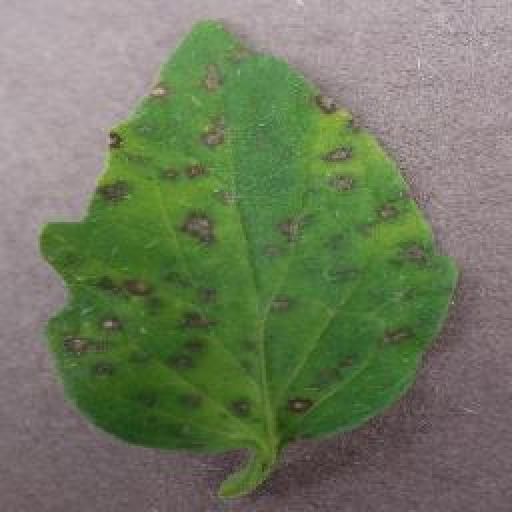Septoria: (43, 18, 456, 458)
